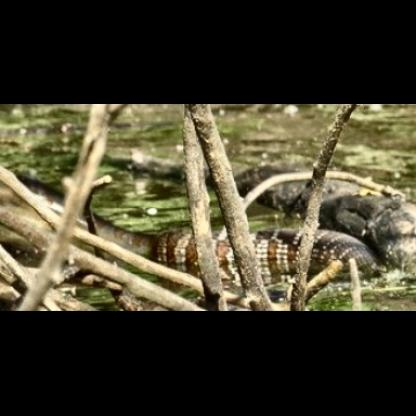Snake: (135, 205, 387, 292)
